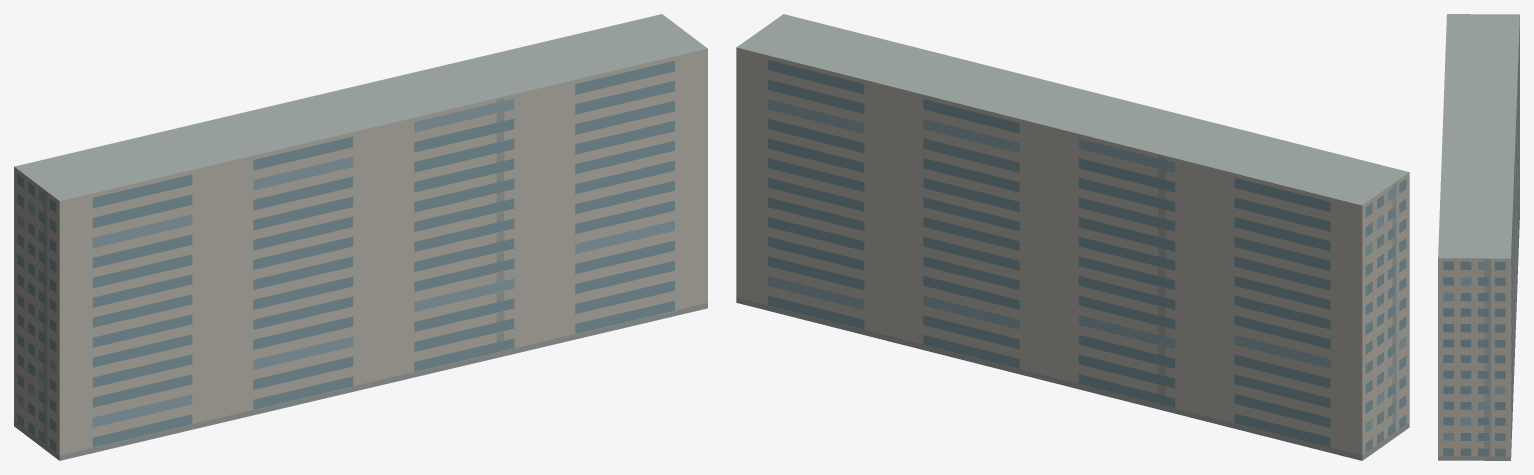
Rendered from residential-c1d10106-39f9-400f-9d19-4d81f6df49ba.glb.
3 views of the same model, side by side, from view 1: azimuth 30°, elevation 25°; view 2: azimuth 150°, elevation 25°; view 3: azimuth 270°, elevation 25° (orthographic). The views are drawn at different scales.
Parts seen in each view (by area): view 1: residential-c1d10106-39f9-400f-9d19-4d81f6df49ba.tmp; view 2: residential-c1d10106-39f9-400f-9d19-4d81f6df49ba.tmp; view 3: residential-c1d10106-39f9-400f-9d19-4d81f6df49ba.tmp.
Boxes of the visible parts, left/top/right/bottom form: residential-c1d10106-39f9-400f-9d19-4d81f6df49ba.tmp: left=14, top=14, right=707, bottom=460; residential-c1d10106-39f9-400f-9d19-4d81f6df49ba.tmp: left=736, top=14, right=1409, bottom=460; residential-c1d10106-39f9-400f-9d19-4d81f6df49ba.tmp: left=1438, top=14, right=1519, bottom=460.
Bounding box in the file's own units: 103 × 39.64 × 14.54.
